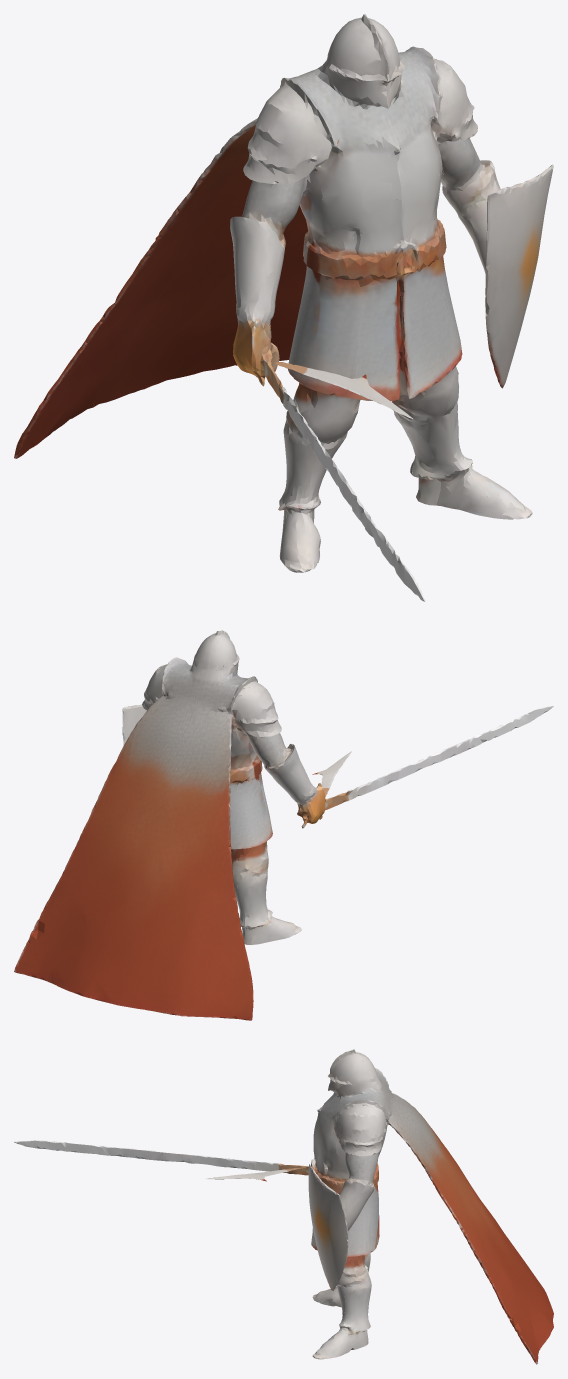
Rendered from knight.glb.
3 views of the same model, one above another, from view 1: azimuth 30°, elevation 25°; view 2: azimuth 150°, elevation 25°; view 3: azimuth 270°, elevation 25° (orthographic). The views are drawn at different scales.
Visible parts, largest first — view 1: knight; view 2: knight; view 3: knight.
Boxes of the visible parts, x1,y1,x2,y2 form: knight: (14,14,553,601); knight: (14,630,553,1020); knight: (14,1049,553,1364).
Bounding box in the file's own units: 1.84 × 2.07 × 3.69.
1 material, 1 textured.
